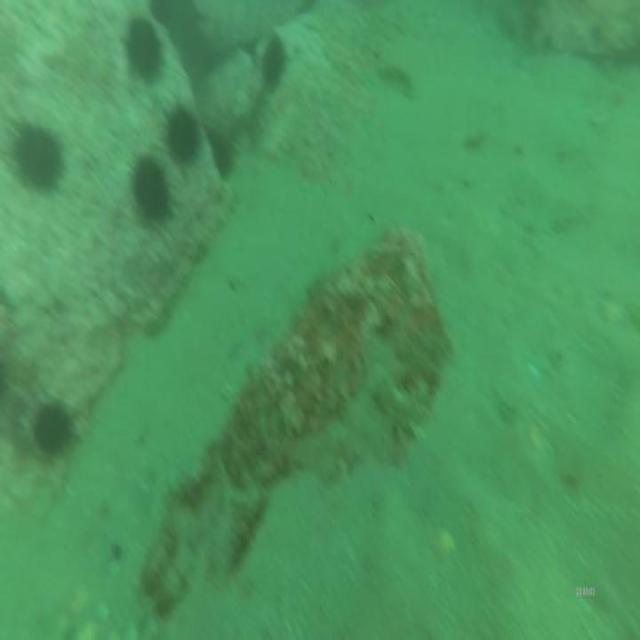echinus: (124, 144, 178, 237), (9, 115, 68, 199), (28, 396, 86, 464), (120, 14, 169, 84), (160, 99, 204, 166), (259, 30, 289, 98)
holothurian: (365, 367, 432, 436), (375, 52, 418, 104)
